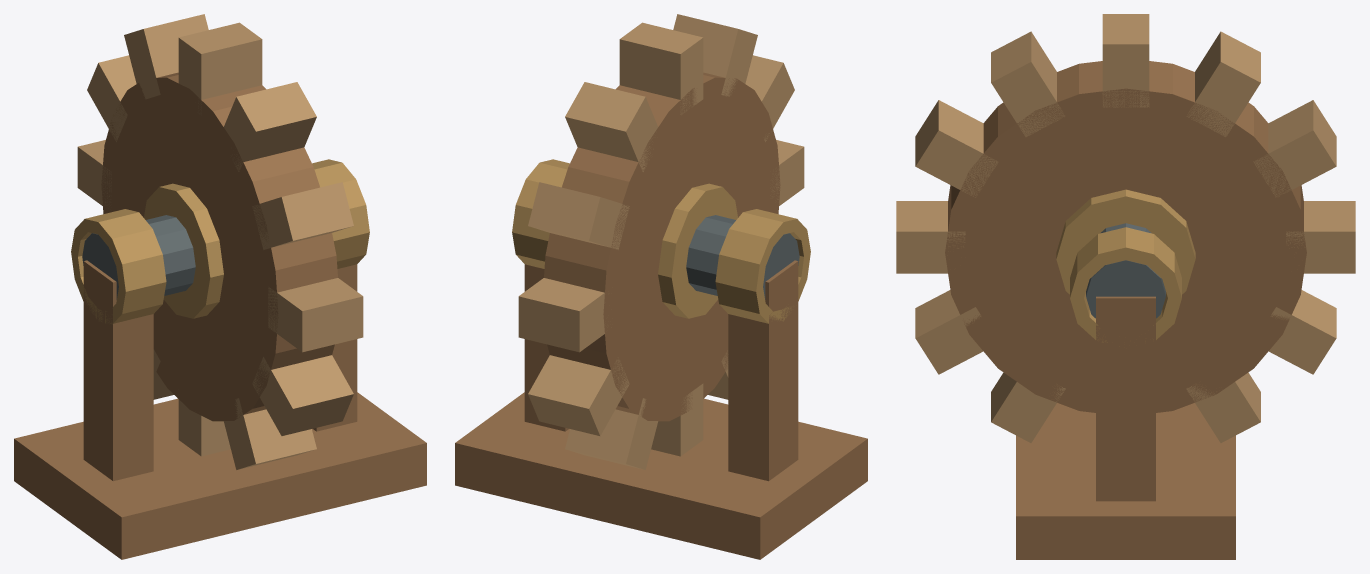
Rendered from vf_cog.glb.
3 renders of one model, left to right at view 1: azimuth 30°, elevation 25°; view 2: azimuth 150°, elevation 25°; view 3: azimuth 270°, elevation 25°, orthographic. The views are drawn at different scales.
Visible parts, largest first — view 1: Rotor, Static; view 2: Rotor, Static; view 3: Rotor, Static.
Part boxes in pixels (bbox=[...]): Rotor: bbox=[77, 14, 363, 469]; Static: bbox=[14, 159, 426, 559]; Rotor: bbox=[518, 14, 804, 469]; Static: bbox=[455, 159, 867, 559]; Rotor: bbox=[896, 14, 1355, 442]; Static: bbox=[1016, 227, 1235, 559].
Bounding box in the file's own units: 0.9 × 1.25 × 1.15.
